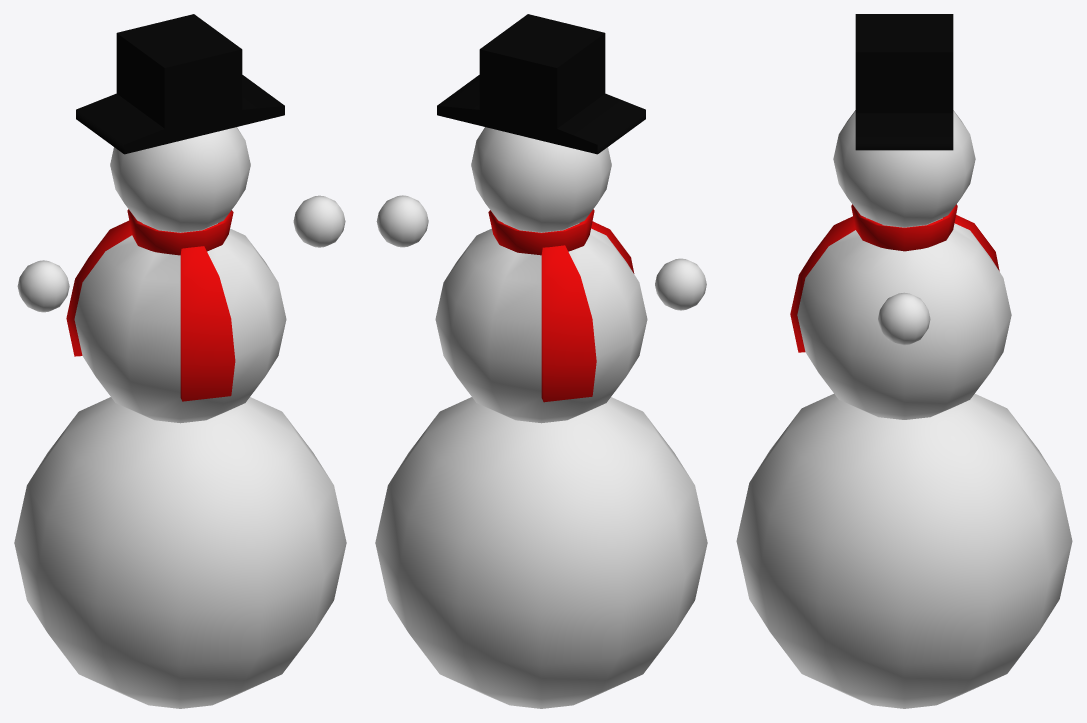
Rendered from mrsnowmanRed.fbx.
3 views of the same model, side by side, from view 1: azimuth 30°, elevation 25°; view 2: azimuth 150°, elevation 25°; view 3: azimuth 270°, elevation 25° (orthographic).
Parts seen in each view (by area): view 1: pSphere1, pSphere2, pCube1, pSphere3, pSphere4, pasted__pSphere4; view 2: pSphere1, pSphere2, pCube1, pSphere3, pSphere4, pasted__pSphere4; view 3: pSphere1, pSphere2, pCube1, pSphere3, pasted__pSphere4.
Part boxes in pixels (box(x1,y1,x2,y2)): pSphere1: box(14, 397, 346, 708); pSphere2: box(66, 209, 286, 423); pCube1: box(76, 14, 284, 154); pSphere3: box(110, 127, 250, 232); pSphere4: box(17, 260, 69, 312); pasted__pSphere4: box(293, 195, 345, 247); pSphere1: box(375, 397, 707, 708); pSphere2: box(435, 209, 647, 423); pCube1: box(437, 14, 645, 154); pSphere3: box(471, 127, 611, 232); pSphere4: box(655, 258, 706, 310); pasted__pSphere4: box(376, 195, 428, 247); pSphere1: box(736, 394, 1072, 708); pSphere2: box(790, 204, 1011, 419); pCube1: box(855, 14, 953, 150); pSphere3: box(833, 110, 975, 227); pasted__pSphere4: box(878, 292, 930, 345).
Bounding box in the file's own units: 5.28 × 10.23 × 4.72.
